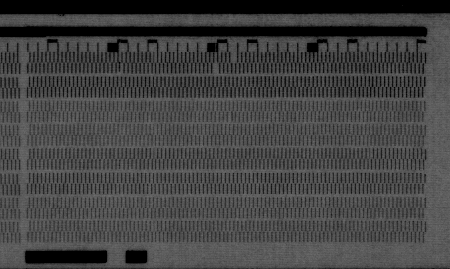Broken hole: (210, 63, 223, 76), (228, 51, 239, 65)
Oblique printing: (115, 62, 126, 76)
